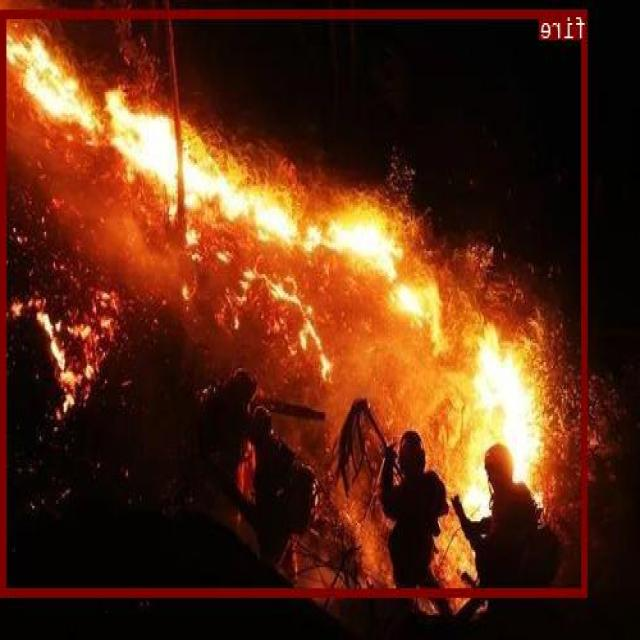fire: (2, 8, 588, 594)
